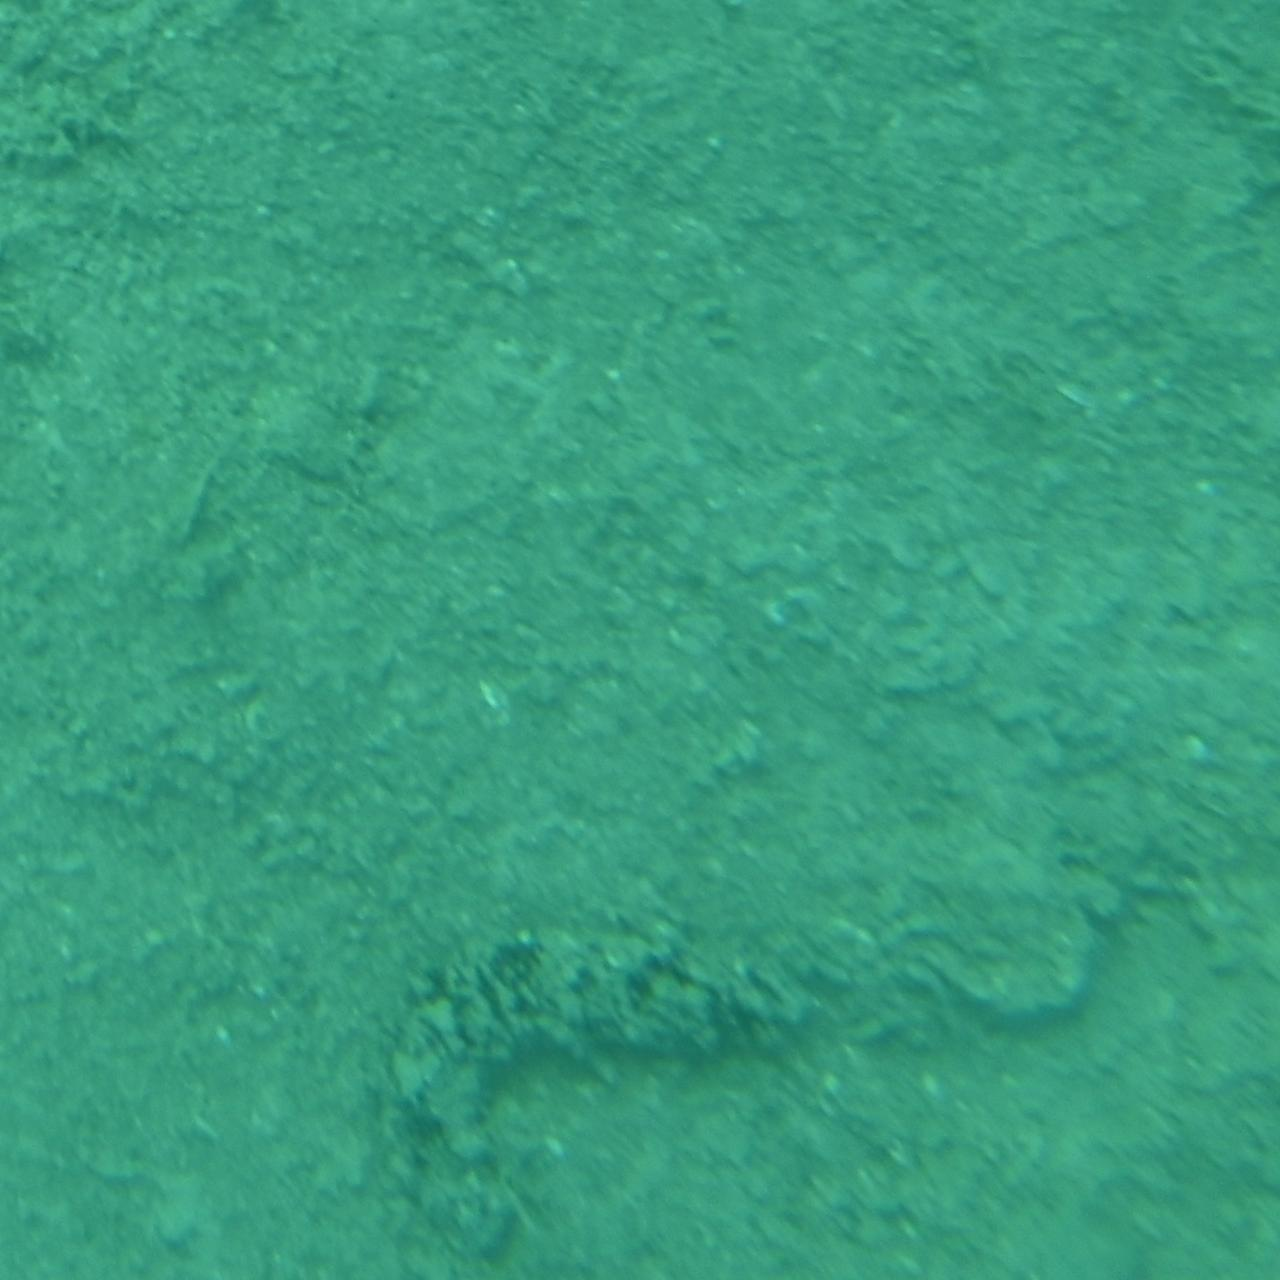Holothuria tubulosa: (362, 915, 918, 1235)
